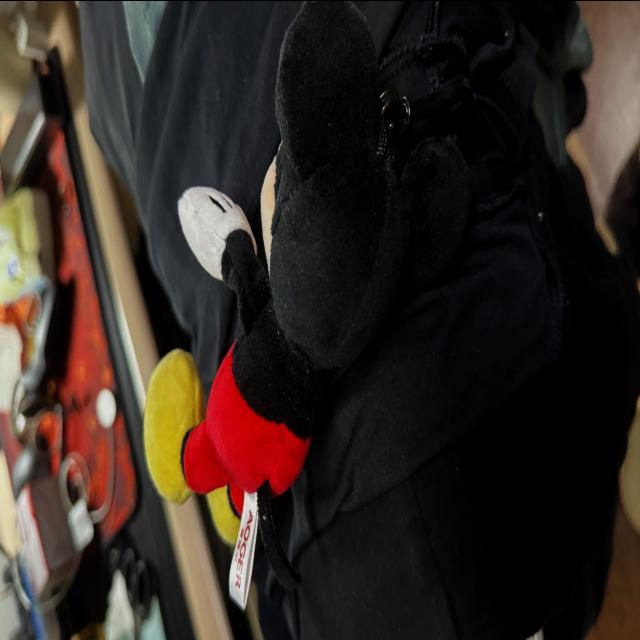mickey: (145, 1, 471, 586)
